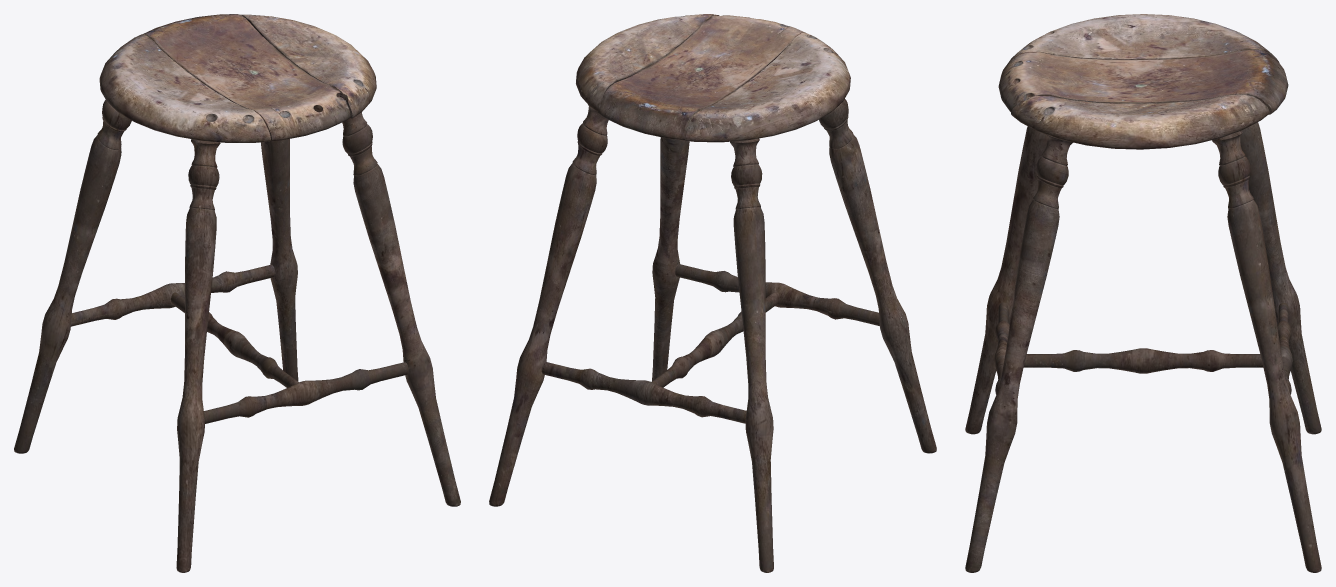
The model's file is bar-stool.glb.
3 views of the same model, side by side, from view 1: azimuth 30°, elevation 25°; view 2: azimuth 150°, elevation 25°; view 3: azimuth 270°, elevation 25° (orthographic). The views are drawn at different scales.
Visible parts, largest first — view 1: wooden_stool_01; view 2: wooden_stool_01; view 3: wooden_stool_01.
Boxes of the visible parts, bbox=[...] form: wooden_stool_01: bbox=[14, 14, 460, 572]; wooden_stool_01: bbox=[489, 14, 936, 572]; wooden_stool_01: bbox=[965, 14, 1321, 572].
Bounding box in the file's own units: 0.5104 × 0.7145 × 0.5308.
1 material, 1 textured.
